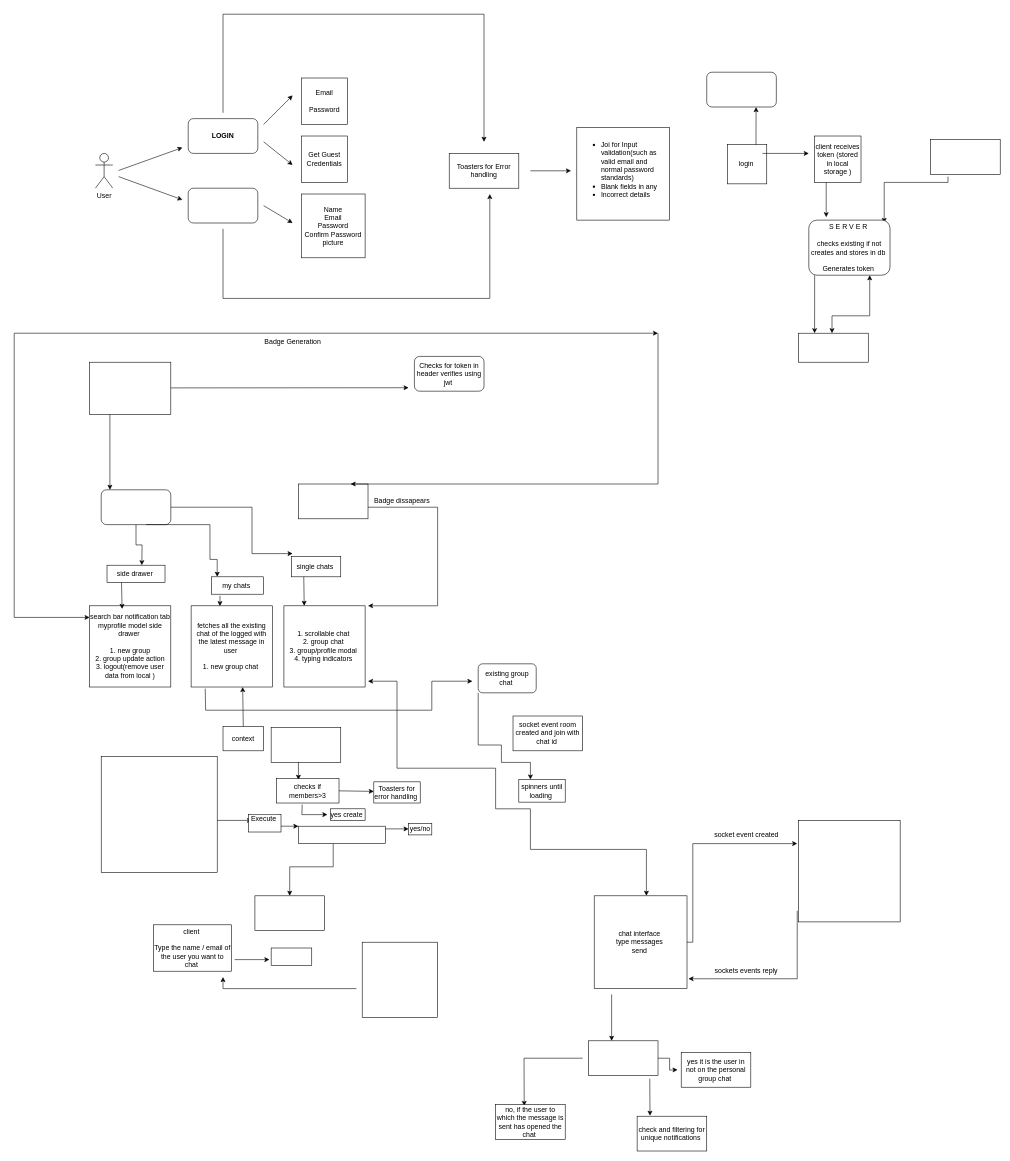
Some shapes in this 1010 by 1161 pixel diagram are drawn without their labels. Here are the shapes that lost their labels. From the top down, the centre of each, then its label:
pixel 741 89: server checks for creds and generates tokens
pixel 965 156: Sign up
pixel 223 205: SIGNUP
pixel 833 347: password is hashed using bycrupt
pixel 130 388: Auth mobile wore
pixel 136 507: chat page
pixel 333 501: onclick on a notification
pixel 306 744: Group Name add members
pixel 159 814: Group modal change name remove/add members
pixel 341 835: checks for admin rights
pixel 849 871: server creates messages populates into updates chat in latest message
pixel 289 913: Toasters to indicate errors
pixel 291 956: select
pixel 400 980: Server checks if chat already exists if not creates to client
pixel 623 1058: notifications generated
